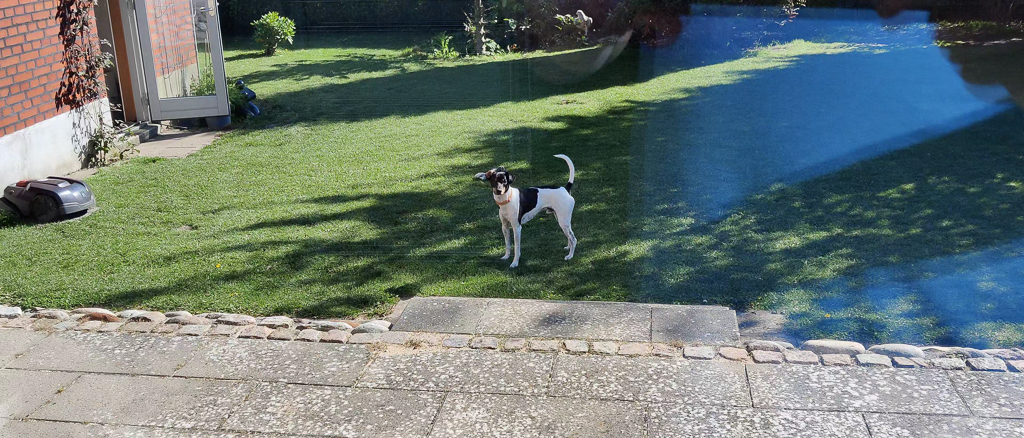Dog: (478, 153, 584, 272)
Eagle: (572, 8, 595, 41)
Humanoid: (226, 79, 263, 120)
